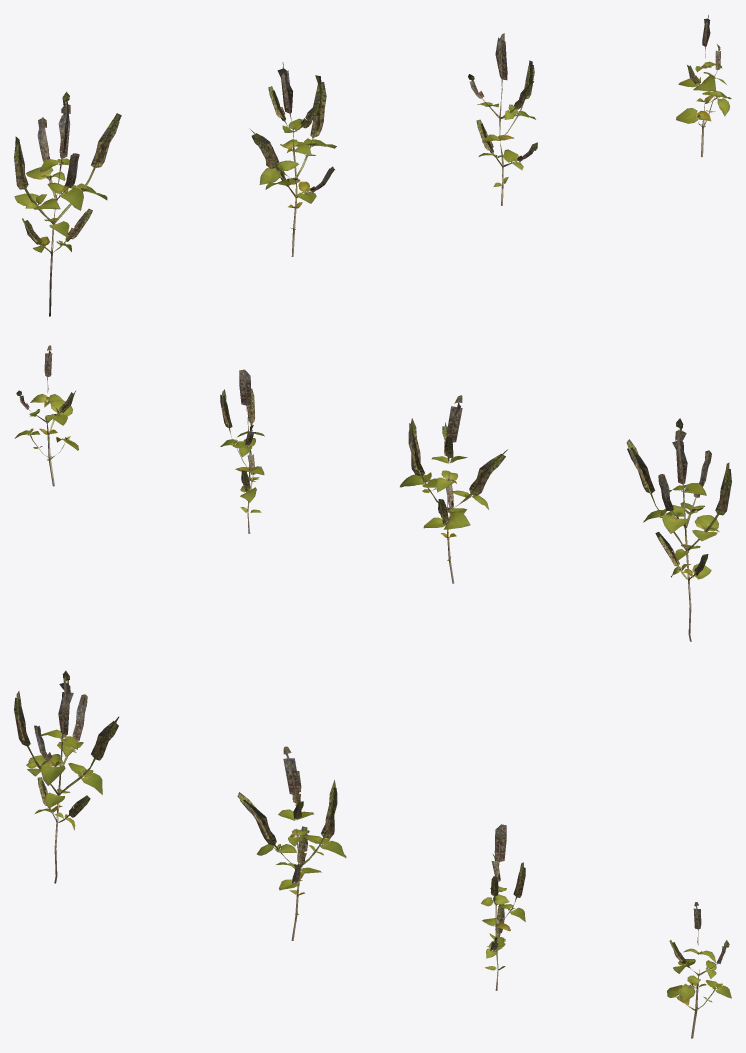
Rendered from shrub-03.glb.
3 renders of one model, top to bottom at view 1: azimuth 30°, elevation 25°; view 2: azimuth 150°, elevation 25°; view 3: azimuth 330°, elevation 25°, orthographic. The views are drawn at different scales.
Parts seen in each view (by area): view 1: shrub_03_a; view 2: shrub_03_a; view 3: shrub_03_a.
Part boxes in pixels (<box>): shrub_03_a: <box>14,15,731,316</box>; shrub_03_a: <box>14,345,731,641</box>; shrub_03_a: <box>14,670,731,1038</box>.
Size of the model in its own units: 1.37 by 0.4028 by 0.1512.
Materials: 1 (1 with a texture image).
